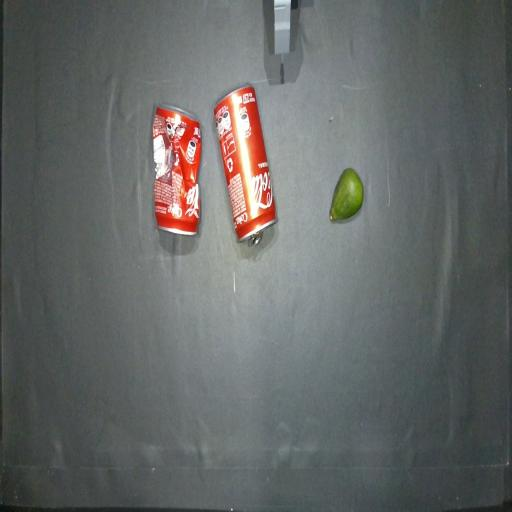higo: (330, 168, 363, 220)
lata: (214, 85, 276, 245)
lata_defectuoso: (153, 106, 202, 235)
